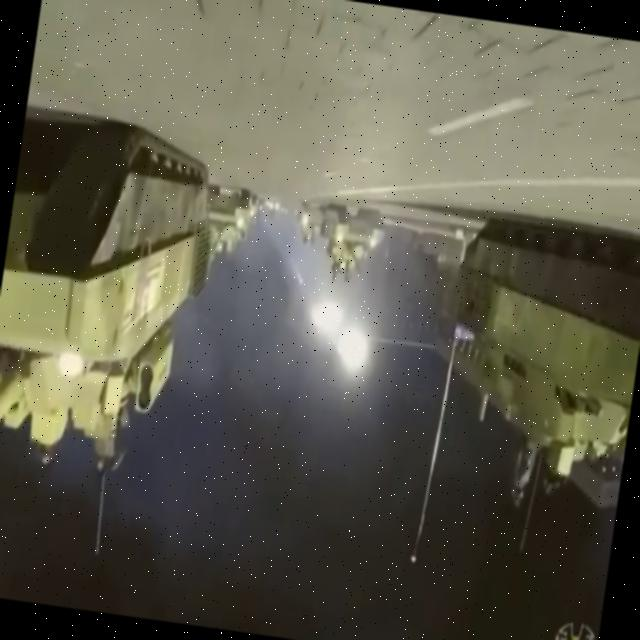north tank: (0, 31, 252, 555), (393, 163, 640, 587), (297, 190, 401, 316), (172, 160, 271, 284)
